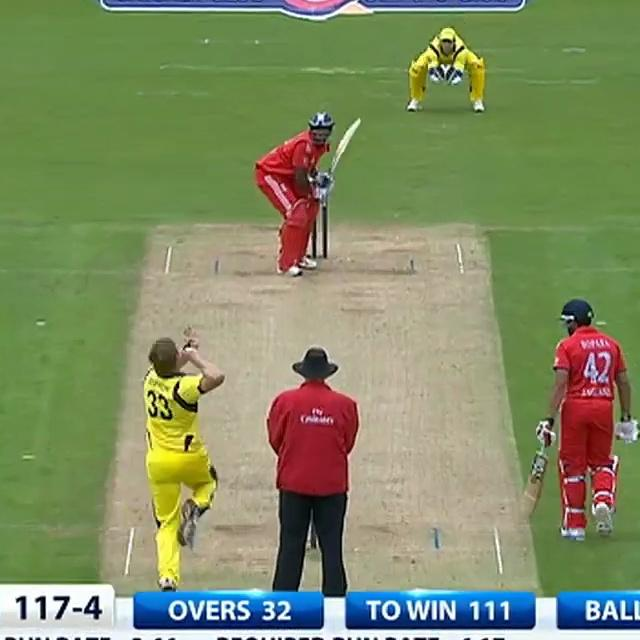umpire: (254, 338, 370, 596)
